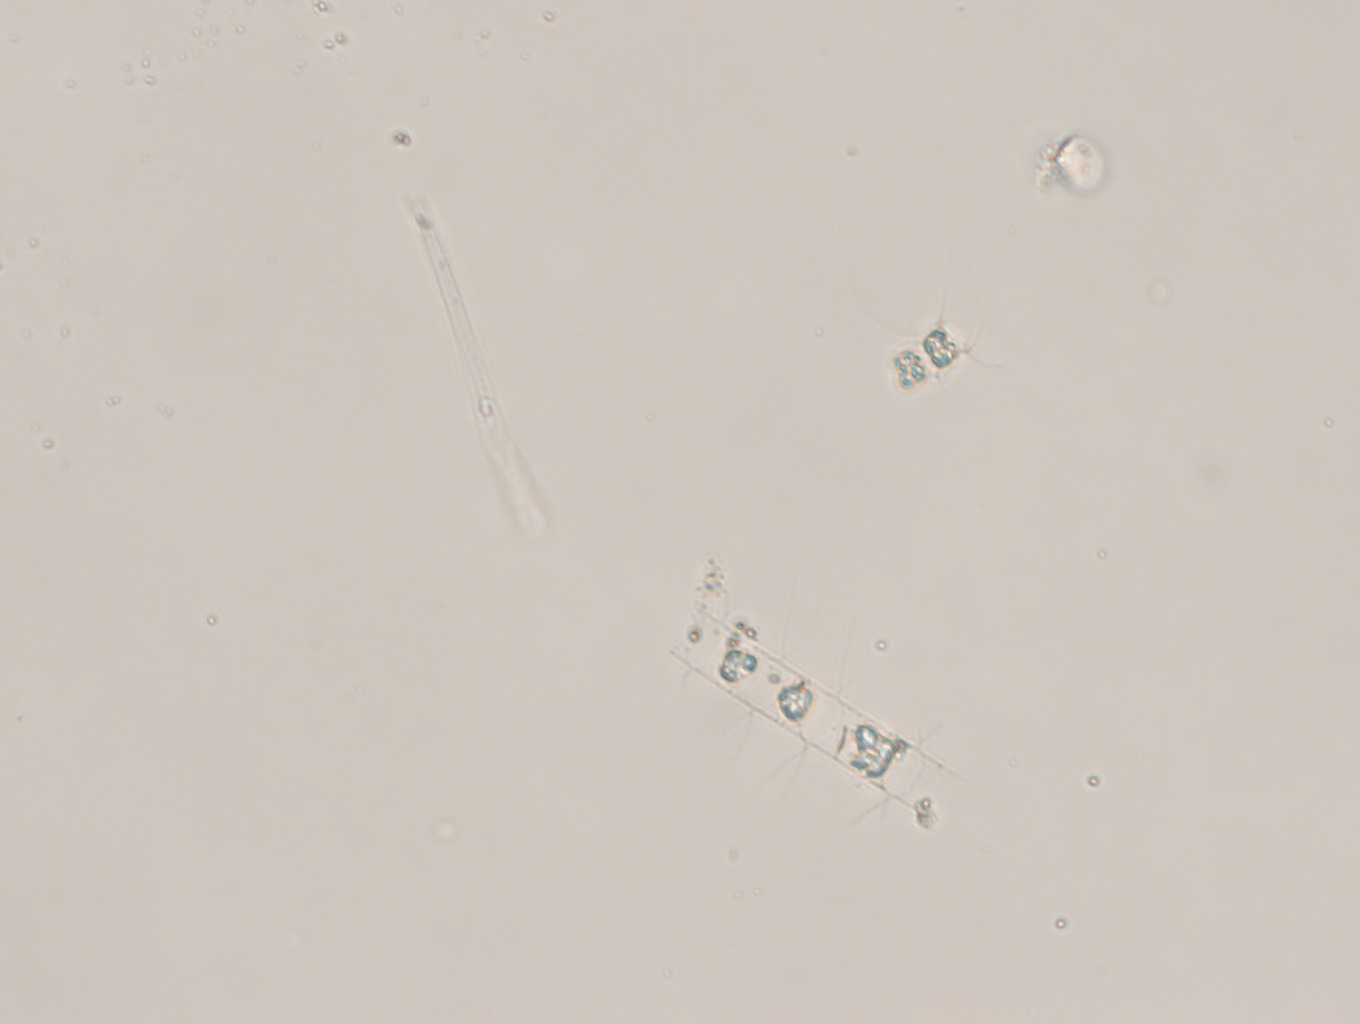chaetoceros: (672, 601, 962, 822), (883, 297, 1025, 393)
